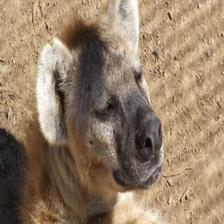hyena: (0, 0, 188, 224)
